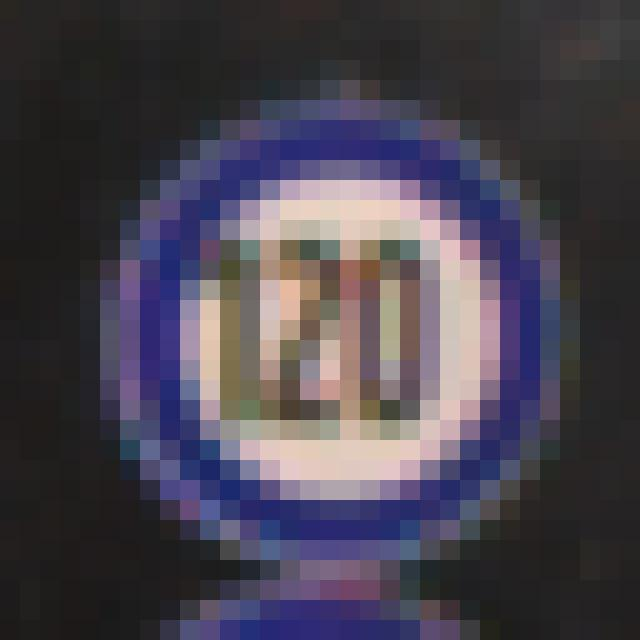SPEED LIMIT 120: (109, 117, 572, 555)
